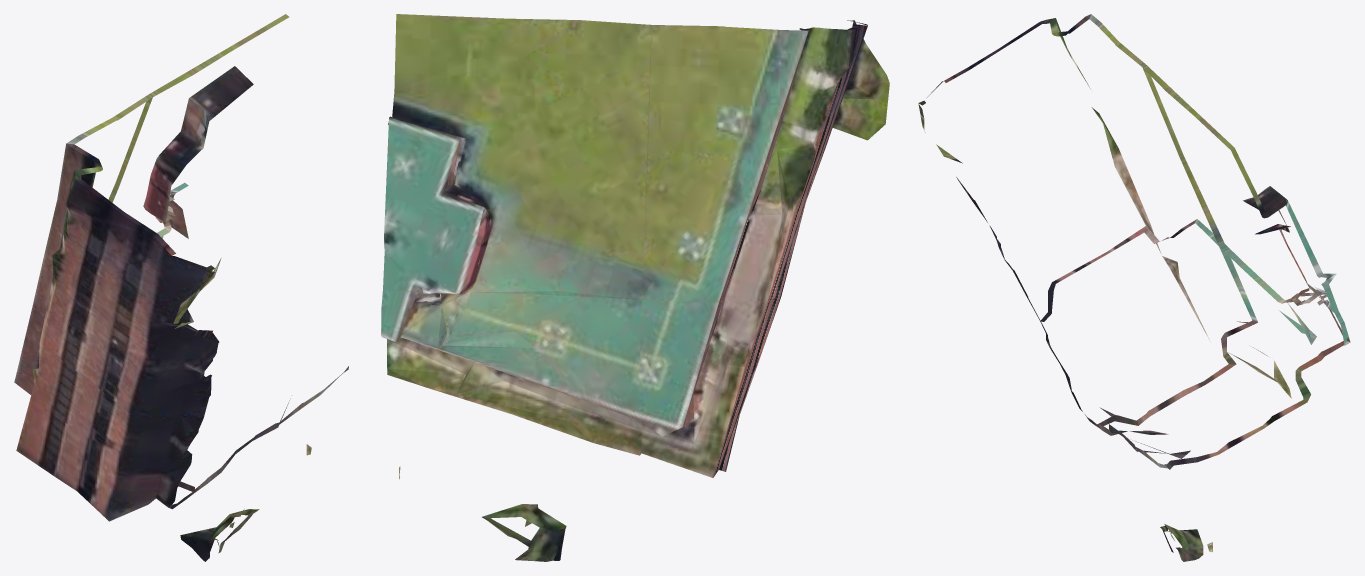
File: AJVsH2xiKjw3Klkn2zv1F96kT61MNH4q3Wr2MKfxckkrHxtcdMctJCibQKsk47xS7RyprLPLWfGJ-fq11v-Kx1r_r6sTyQHp_bHBwFZft-GFRv4FDLjXry78b4DKg6vQkTZ8Vb0DPQwvulpGOzPY01-J1j5R.glb
3 renders of one model, left to right at view 1: azimuth 30°, elevation 25°; view 2: azimuth 150°, elevation 25°; view 3: azimuth 270°, elevation 25°, orthographic. The views are drawn at different scales.
Size of the model in its own units: 30.21 by 41.35 by 35.54.
Materials: 1 (1 with a texture image).
